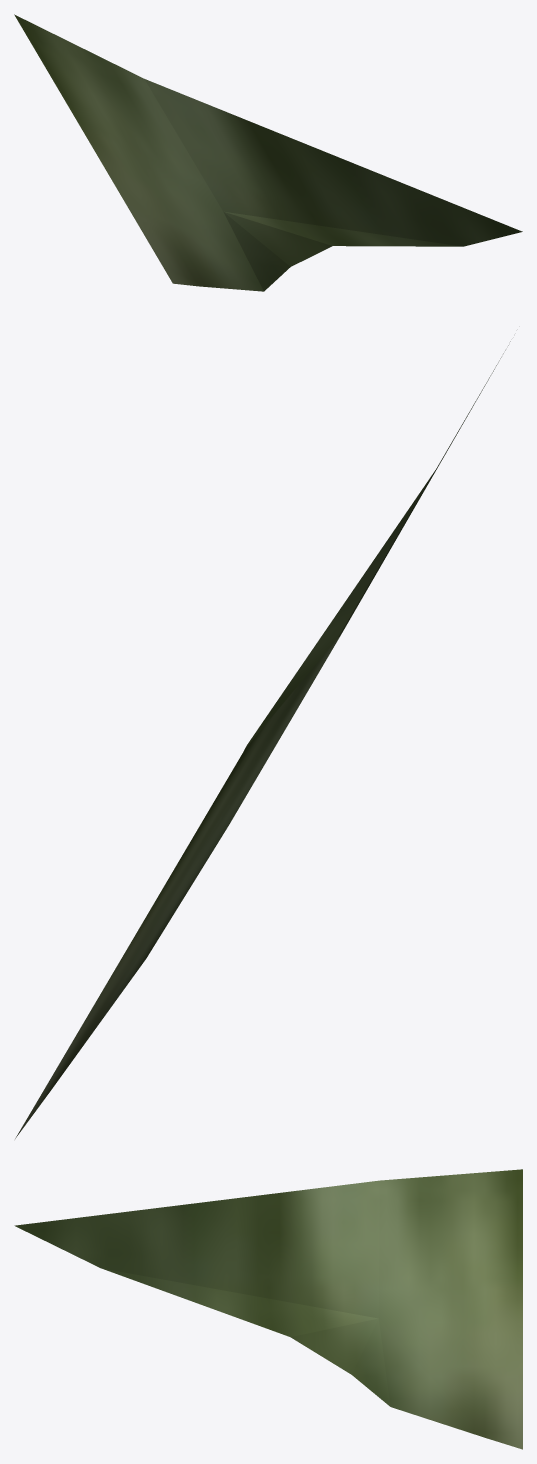
The picture shows the model from 3 angles, top to bottom: view 1: azimuth 30°, elevation 25°; view 2: azimuth 150°, elevation 25°; view 3: azimuth 270°, elevation 25°; orthographic projection. The views are drawn at different scales.
Size of the model in its own units: 0.1364 by 0.2528 by 0.5206.
1 material, 1 textured.
